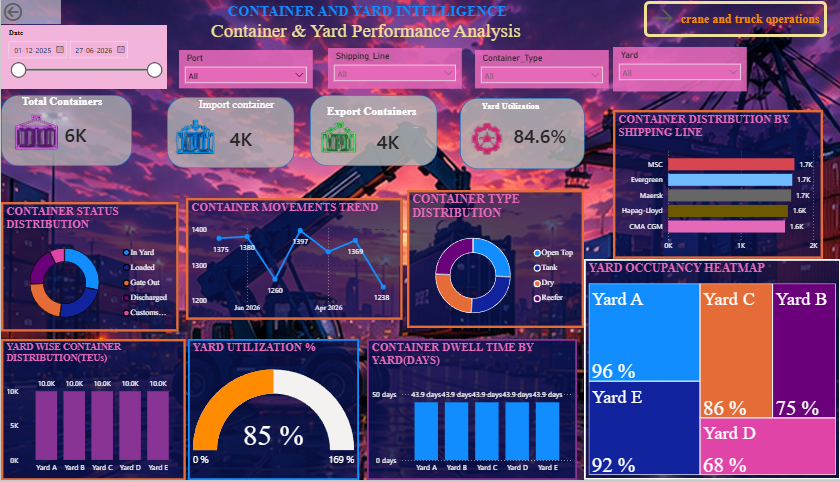

What the dashboard file says about the page in this screenshot:
{"tool":"powerbi","page":{"name":"Container and Yard Intelligence","canvas":[1400,800],"ordinal":1},"visuals":[{"type":"textbox","box":[295.7,0,695.7,84.1],"z":0},{"type":"slicer","fields":{"Values":["portpulse_db dim_port.Port_Name"]},"box":[296.6,83.1,223.2,63.8],"z":1000},{"type":"slicer","fields":{"Values":["portpulse_db dim_ship.Shipping_Line"]},"box":[545.8,79.7,223.2,68.1],"z":2000},{"type":"slicer","fields":{"Values":["portpulse_db fact_yard_utilization.Yard_ID"]},"box":[1020.3,78,223.2,73.9],"z":3000},{"type":"slicer","fields":{"Values":["portpulse_db dim_container.Container_Type"]},"box":[789.8,83.1,223.2,63.8],"z":4000},{"type":"donutChart","title":"CONTAINER STATUS DISTRIBUTION","fields":{"Category":["portpulse_db fact_container_movement.Status"],"Y":["CountNonNull(portpulse_db fact_container_movement.Container_ID)"]},"box":[0,336.7,295.7,215.9],"z":5000},{"type":"lineChart","title":"CONTAINER MOVEMENTS TREND","fields":{"Y":["portpulse_db fact_container_movement.Total Container Movements"],"Category":["portpulse_db dim_date.Date.Variation.Date Hierarchy.Year","portpulse_db dim_date.Date.Variation.Date Hierarchy.Month"]},"box":[308.5,330.5,360.9,202.9],"z":6000},{"type":"donutChart","title":"CONTAINER TYPE DISTRIBUTION","fields":{"Category":["portpulse_db dim_container.Container_Type"],"Y":["CountNonNull(portpulse_db fact_container_movement.Container_ID)"]},"box":[676.7,316.7,295,230],"z":7000},{"type":"barChart","title":"CONTAINER DISTRIBUTION BY SHIPPING LINE","fields":{"Category":["portpulse_db dim_ship.Shipping_Line"],"Y":["CountNonNull(portpulse_db fact_container_movement.Container_ID)"]},"box":[1020,183.3,350,248.3],"z":8000},{"type":"columnChart","title":"YARD WISE CONTAINER DISTRIBUTION(TEUs)","fields":{"Y":["CountNonNull(portpulse_db fact_container_movement.Container_ID)"],"Category":["portpulse_db fact_yard_utilization.Yard_ID"]},"box":[0,564.4,308.5,235.6],"z":9000},{"type":"gauge","title":"YARD UTILIZATION  %","fields":{"Y":["Avg(portpulse_db fact_yard_utilization.Utilization_Percentage)"]},"box":[311.9,564.4,285,235],"z":10000},{"type":"columnChart","title":"CONTAINER DWELL TIME BY YARD(DAYS)","fields":{"Category":["portpulse_db fact_yard_utilization.Yard_ID"],"Y":["portpulse_db fact_container_movement.Avg Dwell Time"]},"box":[610.2,564.4,350,235],"z":11000},{"type":"treemap","title":"YARD OCCUPANCY HEATMAP","fields":{"Group":["portpulse_db fact_yard_utilization.Yard_ID"],"Values":["Avg(portpulse_db fact_yard_utilization.Utilization_Percentage)"]},"box":[971.2,431.8,427.7,367.7],"z":12000},{"type":"shape","box":[0,158.5,218.5,118.5],"z":13000},{"type":"actionButton","box":[1071.7,1.7,305,60],"z":14000},{"type":"shape","box":[515.4,158.5,212.3,118.5],"z":15000},{"type":"shape","box":[764.6,163.1,207.7,118.5],"z":16000},{"type":"shape","box":[276.9,161.5,212.3,118.5],"z":17000},{"type":"textbox","title":"Total Containers","box":[30.8,158.5,156.9,33.8],"z":18000},{"type":"image","box":[4.6,175.4,107.7,92.3],"z":19000},{"type":"cardVisual","fields":{"Data":["portpulse_db fact_container_movement.Total Container Movements"]},"box":[76.9,175.4,121.5,92.3],"z":20000},{"type":"textbox","title":"Import container","box":[324.6,163.1,138.5,33.8],"z":21000},{"type":"image","box":[281.5,181.5,84.6,92.3],"z":22000},{"type":"cardVisual","fields":{"Data":["portpulse_db fact_container_movement.Import Containers"]},"box":[352.3,181.5,136.9,92.3],"z":23000},{"type":"textbox","title":"Export Containers","box":[538.5,175.4,161.5,43.1],"z":24000},{"type":"image","box":[503.1,192.3,118.5,75.4],"z":25000},{"type":"cardVisual","fields":{"Data":["portpulse_db fact_container_movement.Export Containers"]},"box":[596.9,196.9,123.1,75.4],"z":26000},{"type":"textbox","box":[796.9,163.1,136.9,33.8],"z":27000},{"type":"image","box":[744.6,183.1,103.1,96.9],"z":28000},{"type":"cardVisual","fields":{"Data":["portpulse_db fact_yard_utilization.Avg Yard Utilization"]},"box":[824.6,166.2,153.8,113.8],"z":29000},{"type":"slicer","fields":{"Values":["portpulse_db dim_date.Date_Time"]},"box":[0,52.2,276.3,105.1],"z":30000},{"type":"actionButton","box":[0,0,100,40],"z":31000}]}

Visuals, with their boxes in screenshot pixels (x1, y1, x2, y2), scaled from the page's 1400x800 canvas onto the 840x482 screenshot:
textbox: [177,0,595,51]
slicer - portpulse_db dim_port.Port_Name: [178,50,312,89]
slicer - portpulse_db dim_ship.Shipping_Line: [327,48,461,89]
slicer - portpulse_db fact_yard_utilization.Yard_ID: [612,47,746,92]
slicer - portpulse_db dim_container.Container_Type: [474,50,608,89]
"CONTAINER STATUS DISTRIBUTION" donutChart: [0,203,177,333]
"CONTAINER MOVEMENTS TREND" lineChart: [185,199,402,321]
"CONTAINER TYPE DISTRIBUTION" donutChart: [406,191,583,329]
"CONTAINER DISTRIBUTION BY SHIPPING LINE" barChart: [612,110,822,260]
"YARD WISE CONTAINER DISTRIBUTION(TEUs)" columnChart: [0,340,185,481]
"YARD UTILIZATION  %" gauge: [187,340,358,481]
"CONTAINER DWELL TIME BY YARD(DAYS)" columnChart: [366,340,576,481]
"YARD OCCUPANCY HEATMAP" treemap: [583,260,839,481]
shape: [0,95,131,167]
actionButton: [643,1,826,37]
shape: [309,95,437,167]
shape: [459,98,583,170]
shape: [166,97,294,169]
"Total Containers" textbox: [18,95,113,116]
image: [3,106,67,161]
cardVisual - portpulse_db fact_container_movement.Total Container Movements: [46,106,119,161]
"Import container" textbox: [195,98,278,119]
image: [169,109,220,165]
cardVisual - portpulse_db fact_container_movement.Import Containers: [211,109,294,165]
"Export Containers" textbox: [323,106,420,132]
image: [302,116,373,161]
cardVisual - portpulse_db fact_container_movement.Export Containers: [358,119,432,164]
textbox: [478,98,560,119]
image: [447,110,509,169]
cardVisual - portpulse_db fact_yard_utilization.Avg Yard Utilization: [495,100,587,169]
slicer - portpulse_db dim_date.Date_Time: [0,31,166,95]
actionButton: [0,0,60,24]
